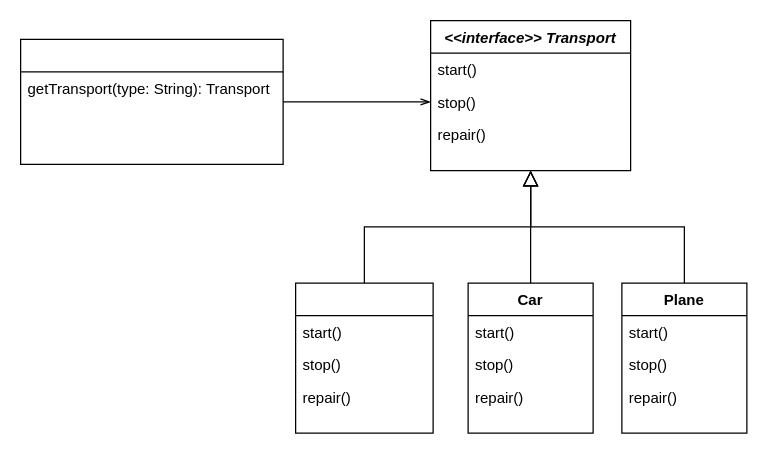
Image size: 768x454. Some labels were removed from this diagram. The box of each missing label's shape, as (x1, y1, x2, y2) in pixels:
Bike: (294, 282, 433, 433)
TransportFactory: (19, 38, 283, 164)
